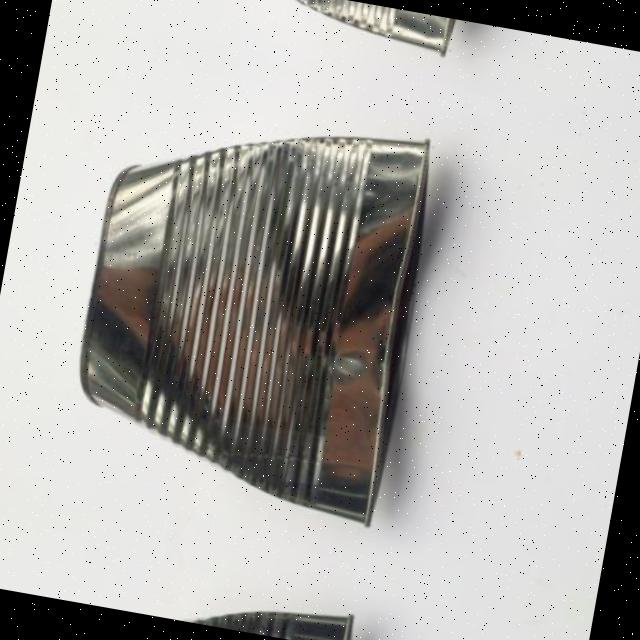Metal: (7, 63, 488, 544), (0, 542, 403, 640), (89, 0, 506, 77)
